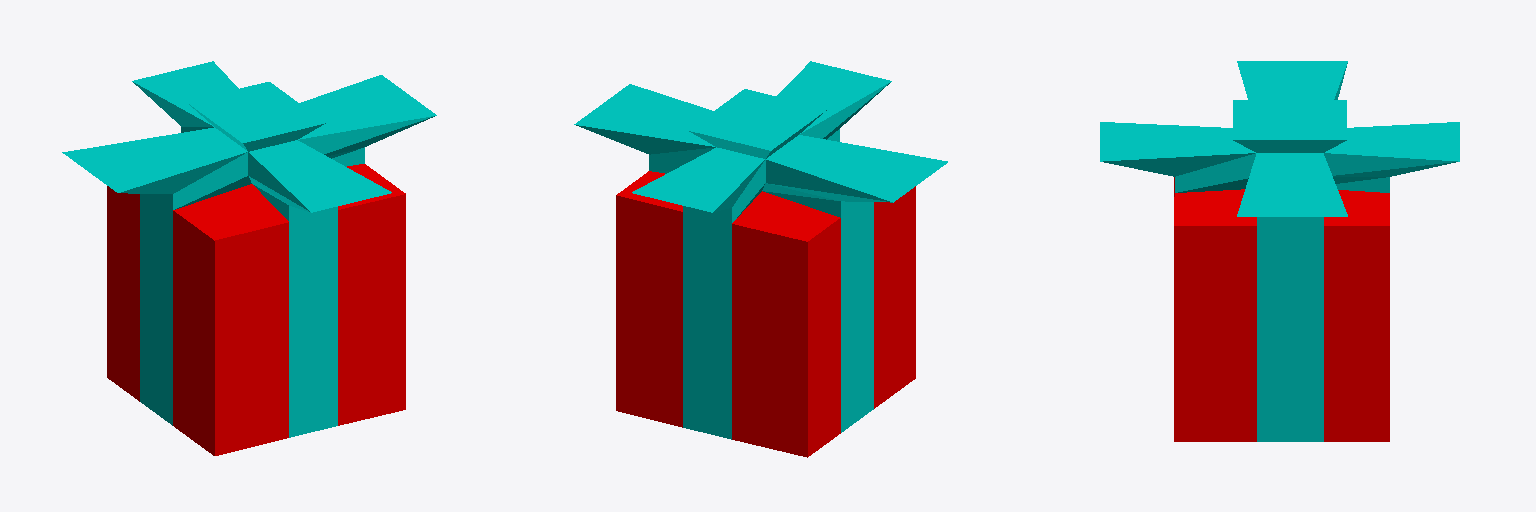
Rendered from Present_1.obj.
3 views of the same model, side by side, from view 1: azimuth 30°, elevation 25°; view 2: azimuth 150°, elevation 25°; view 3: azimuth 270°, elevation 25° (orthographic).
Parts seen in each view (by area): view 1: Box_3; view 2: Box_3; view 3: Box_3.
Part boxes in pixels (x1,y1,x2,y2): Box_3: (62,61,436,455); Box_3: (574,61,947,457); Box_3: (1100,61,1459,441).
Bounding box in the file's own units: 0.6177 × 0.5122 × 0.6027.